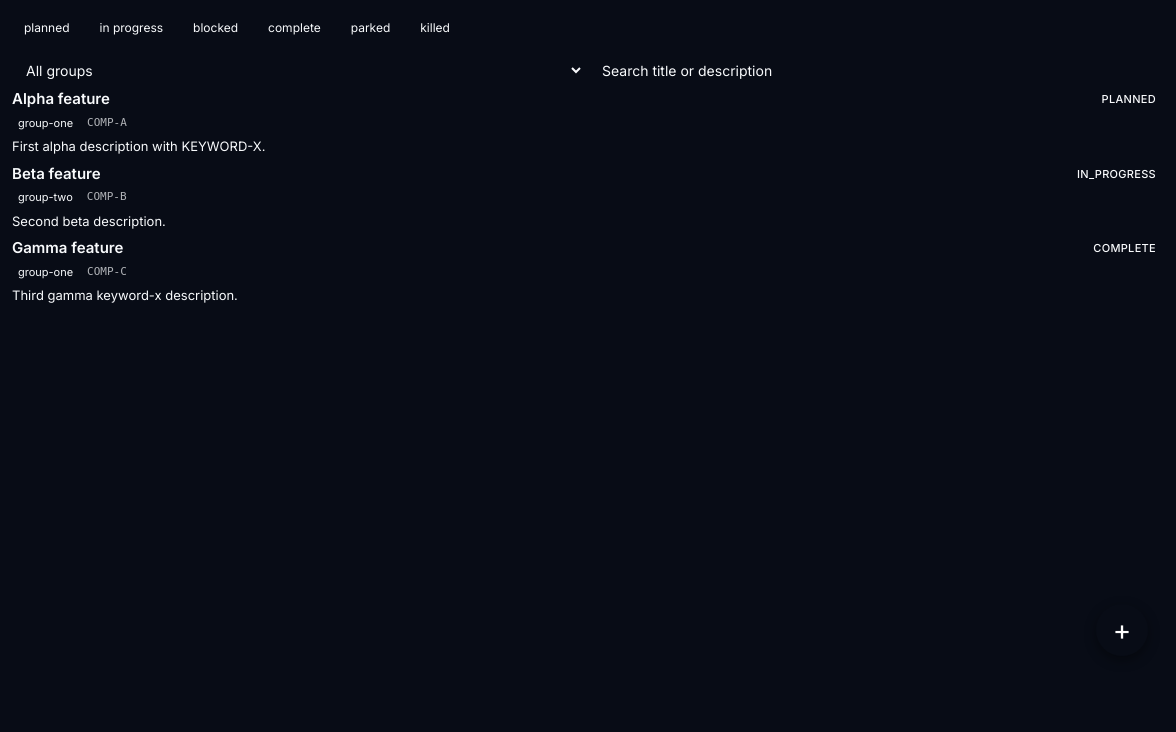
Test case: <RoadmapTab> › filters by keyword (case-insensitive substring on title and description)
The image size is (1176, 732).
expect the list with test id "mobile-roadmap-list" is shown: met, box [12,89,1164,305]
Type "keyword-x" into the search field with test id "mobile-filter-keyword" at (878,70), box [592,52,1164,89]
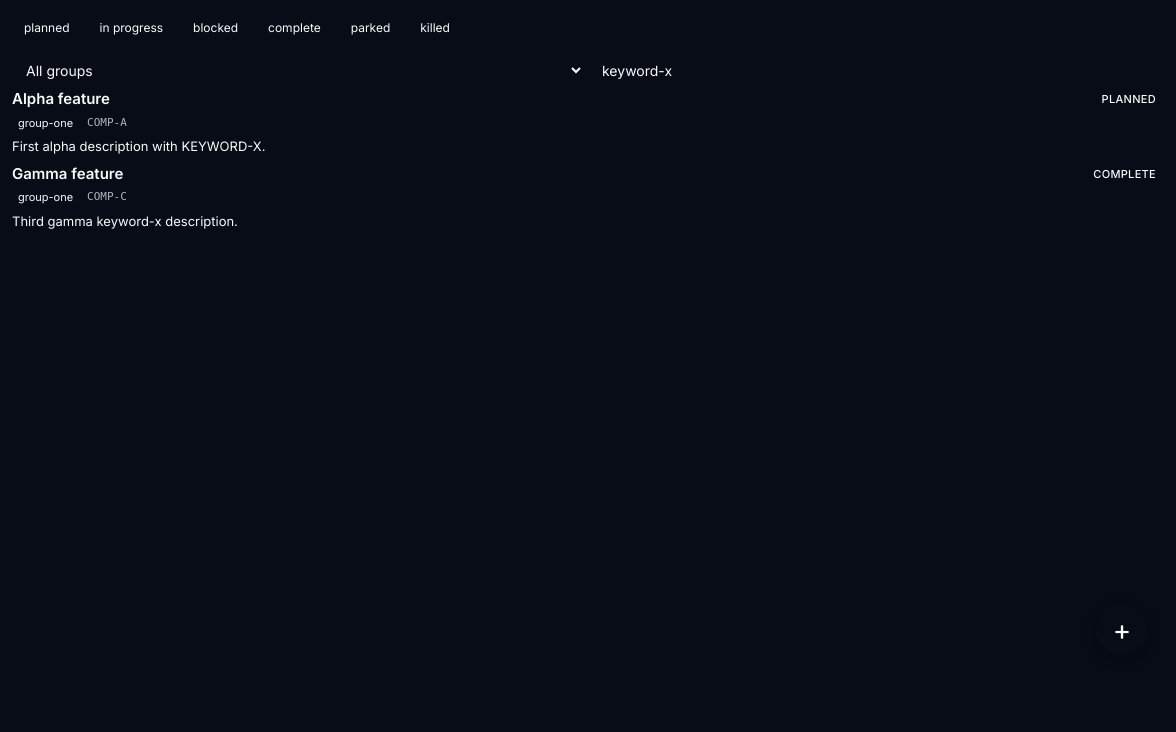
expect the button with test id "mobile-item-card-COMP-A" is shown: met, box [12,89,1164,156]
expect the button with test id "mobile-item-card-COMP-B" is gone: met
